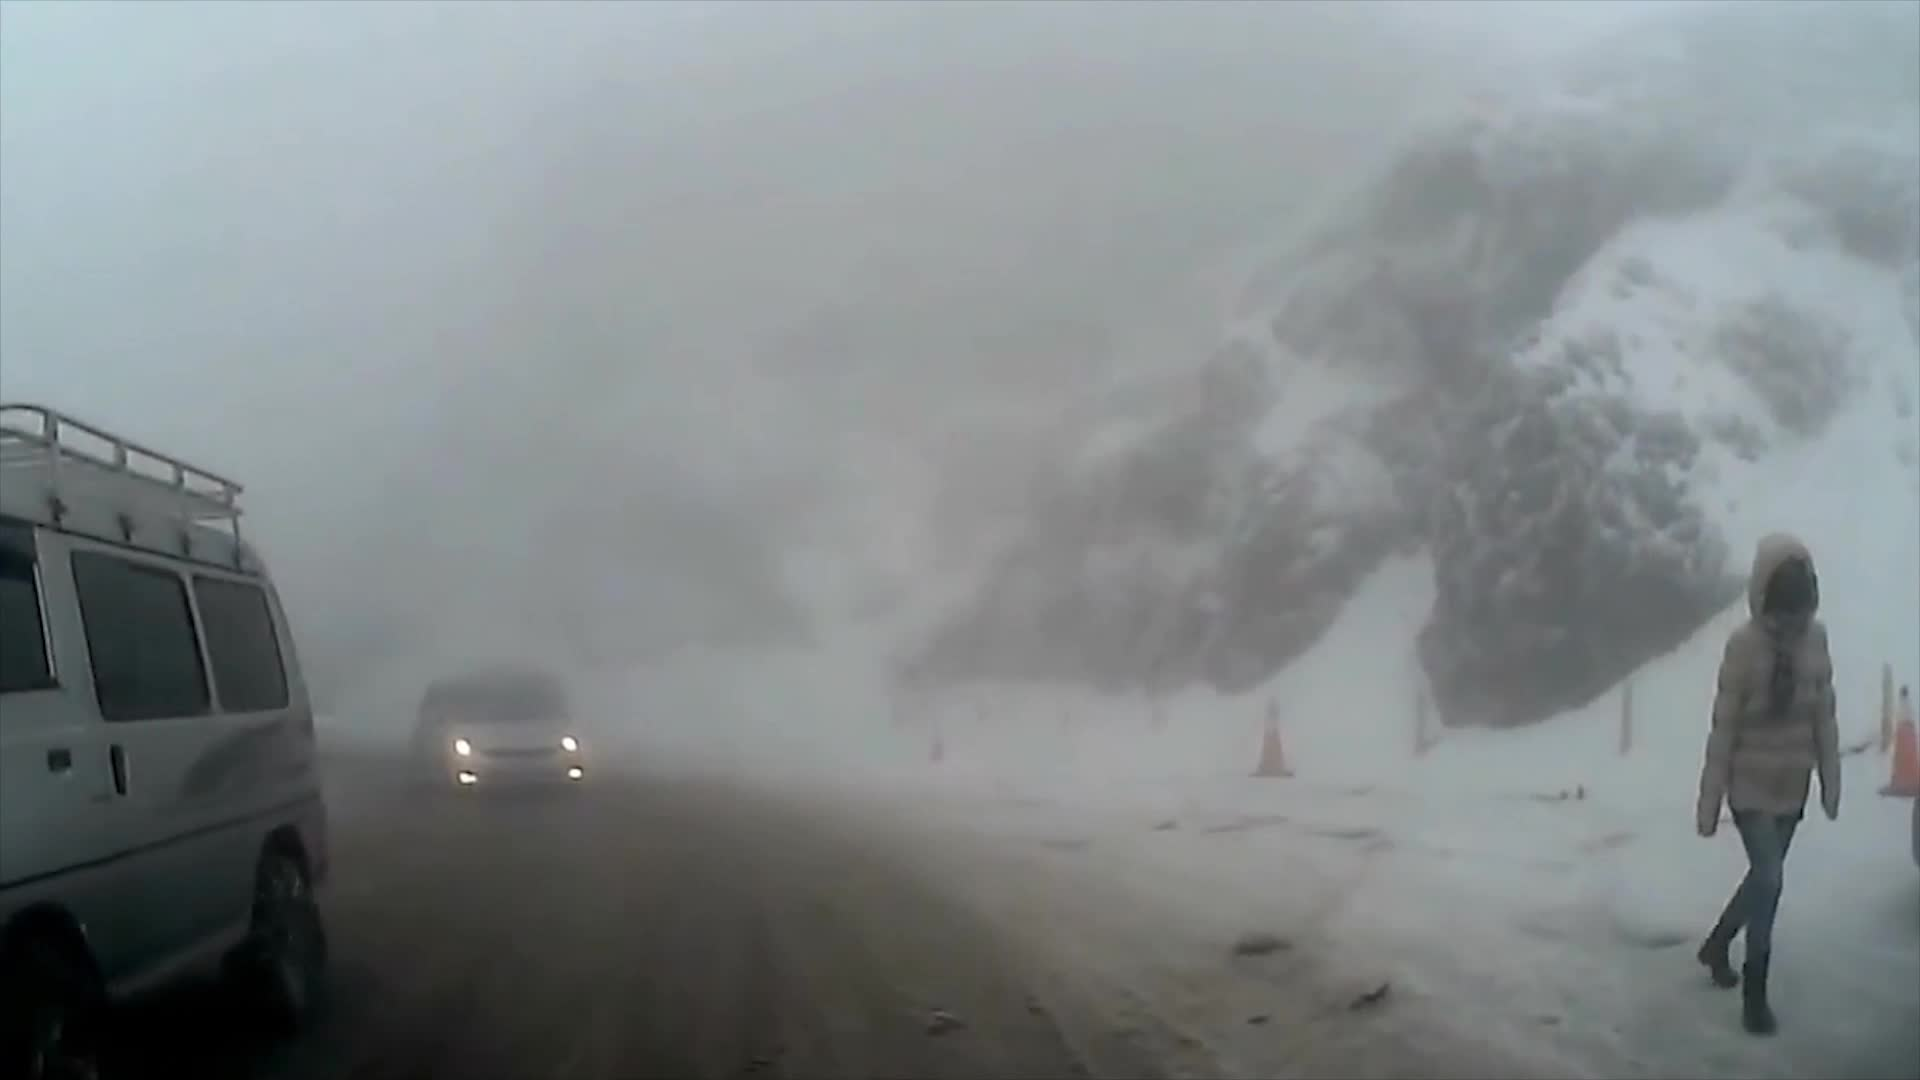pedestrian: (1694, 534, 1847, 1037)
vehicle: (0, 402, 347, 1080), (411, 673, 592, 806)
